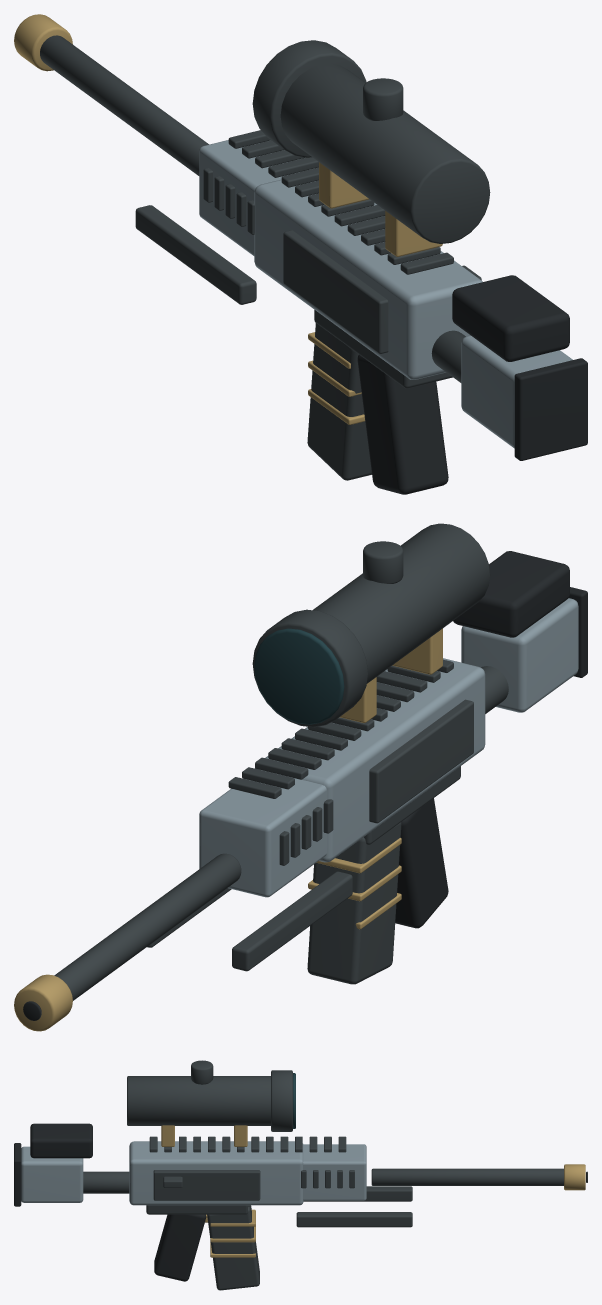
File: Weapon_sniper.glb
3 renders of one model, top to bottom at view 1: azimuth 30°, elevation 25°; view 2: azimuth 150°, elevation 25°; view 3: azimuth 270°, elevation 25°, orthographic. The views are drawn at different scales.
Visible parts, largest first — view 1: Weapon_sniper, ReloadMagazine; view 2: Weapon_sniper, ReloadMagazine; view 3: Weapon_sniper, ReloadMagazine.
Part boxes in pixels (box(x1,y1,x2,y2)): Weapon_sniper: box(14, 14, 587, 494); ReloadMagazine: box(307, 323, 371, 480); Weapon_sniper: box(14, 523, 587, 1031); ReloadMagazine: box(307, 822, 401, 984); Weapon_sniper: box(14, 1060, 587, 1281); ReloadMagazine: box(207, 1205, 259, 1290).
Size of the model in its own units: 0.1585 by 0.5019 by 1.19.
